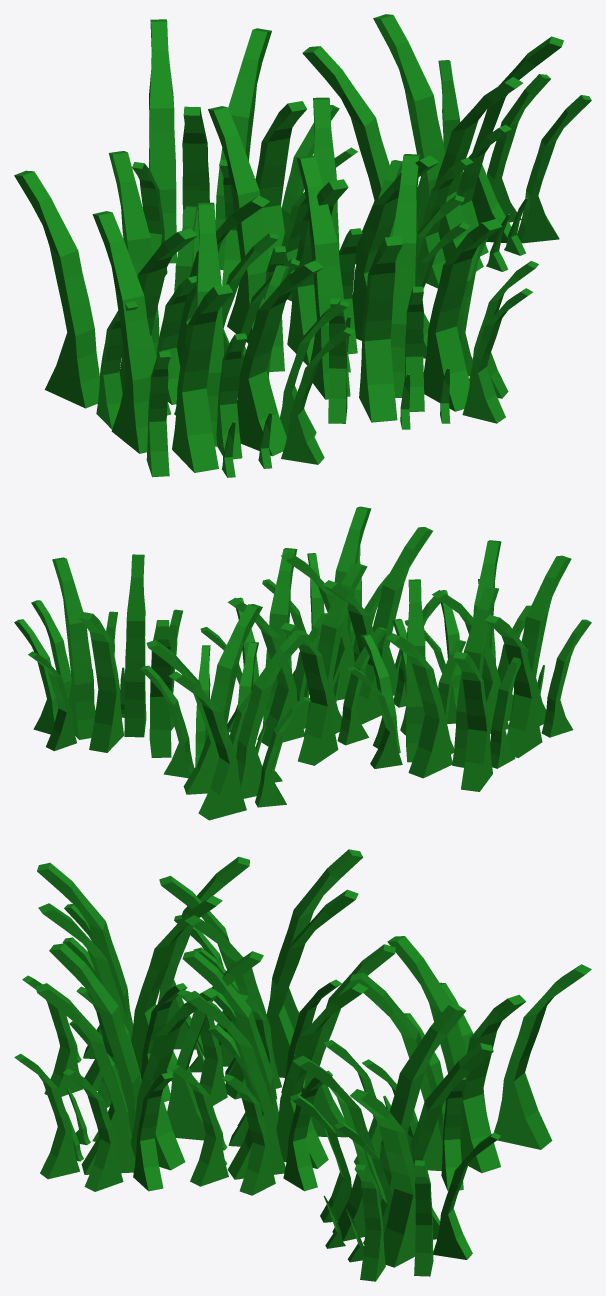
File: Grass.FBX
3 renders of one model, top to bottom at view 1: azimuth 30°, elevation 25°; view 2: azimuth 150°, elevation 25°; view 3: azimuth 270°, elevation 25°, orthographic. The views are drawn at different scales.
Visible parts, largest first — view 1: Grass; view 2: Grass; view 3: Grass.
Boxes of the visible parts, left/top/right/bottom form: Grass: left=14, top=14, right=591, bottom=477; Grass: left=14, top=506, right=591, bottom=820; Grass: left=14, top=849, right=591, bottom=1281.
Size of the model in its own units: 48.42 by 15.77 by 44.47.
